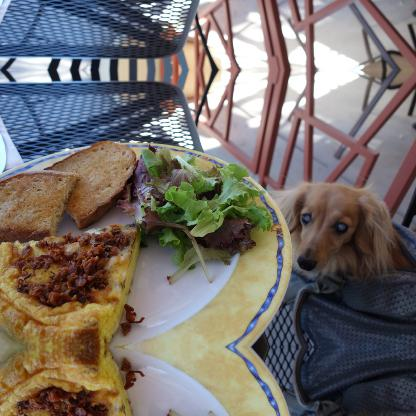Dog: (267, 178, 415, 280)
